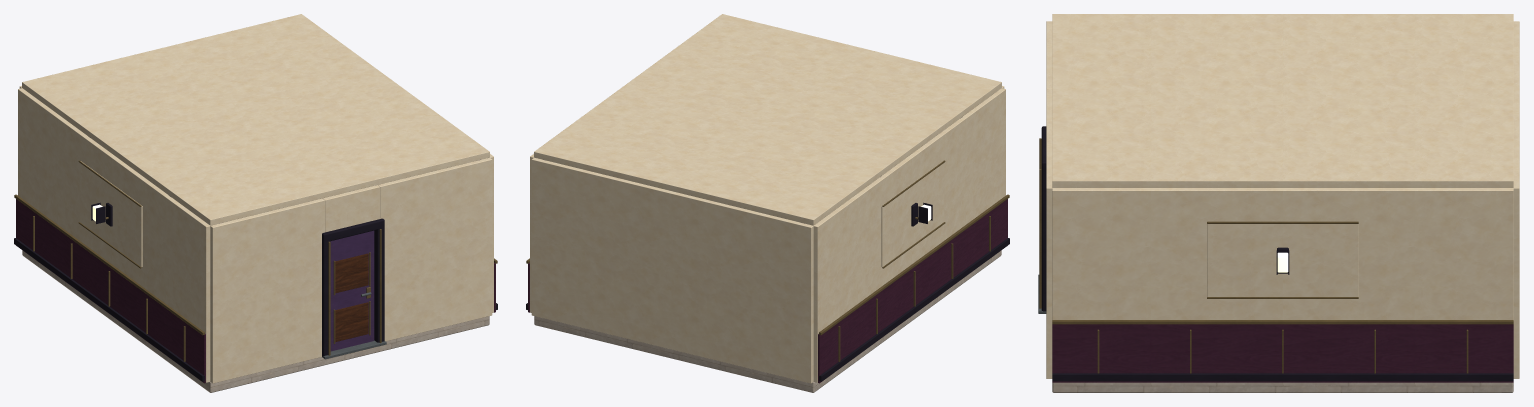
The model's file is explore3d__guest_room.glb.
The picture shows the model from 3 angles, left to right: view 1: azimuth 30°, elevation 25°; view 2: azimuth 150°, elevation 25°; view 3: azimuth 270°, elevation 25°; orthographic projection. The views are drawn at different scales.
Parts seen in each view (by area): view 1: ceiling_surface.008, front_wall.026, left_wall.024, front_wall.024, left_wainscot.016, floor.009, left_upper_inset.016, guest_room_leaf, front_wall.025, left_skirt.016, guest_room_jamb.001, guest_room_recessed_panel.001 (+4 smaller); view 2: ceiling_surface.008, back_wall.018, left_wall.024, left_wainscot.016, floor.009, left_upper_inset.016, left_skirt.016, left_rail.016; view 3: ceiling_surface.008, right_wall.024, right_wainscot.016, right_upper_inset.016, floor.009, right_skirt.016, back_wall.018, right_rail.016, front_wall.024, guest_room_jamb.001, front_wall.026, right_inset_edge.033 (+1 smaller).
Part boxes in pixels (box(x1,y1,x2,y2)): ceiling_surface.008: box(22, 14, 489, 225); front_wall.026: box(210, 198, 324, 383); left_wall.024: box(18, 88, 210, 382); front_wall.024: box(378, 157, 492, 341); left_wainscot.016: box(16, 199, 205, 383); floor.009: box(22, 250, 489, 392); left_upper_inset.016: box(79, 161, 142, 267); guest_room_leaf: box(330, 230, 374, 351); front_wall.025: box(322, 185, 379, 232); left_skirt.016: box(14, 238, 204, 381); guest_room_jamb.001: box(374, 224, 384, 342); guest_room_recessed_panel.001: box(335, 253, 368, 293); ceiling_surface.008: box(534, 14, 1001, 225); back_wall.018: box(531, 157, 813, 383); left_wall.024: box(813, 88, 1005, 382); left_wainscot.016: box(818, 199, 1007, 383); floor.009: box(534, 250, 1001, 392); left_upper_inset.016: box(881, 161, 944, 267); left_skirt.016: box(819, 238, 1009, 381); left_rail.016: box(819, 194, 1009, 335); ceiling_surface.008: box(1052, 14, 1513, 187); right_wall.024: box(1052, 188, 1513, 319); right_wainscot.016: box(1052, 324, 1513, 382); right_upper_inset.016: box(1207, 224, 1358, 296); floor.009: box(1052, 382, 1513, 392); right_skirt.016: box(1052, 373, 1513, 381); back_wall.018: box(1513, 21, 1519, 378); right_rail.016: box(1052, 320, 1513, 324); front_wall.024: box(1046, 121, 1052, 378); guest_room_jamb.001: box(1041, 167, 1046, 311); front_wall.026: box(1046, 21, 1052, 88); right_inset_edge.033: box(1207, 221, 1358, 223).
Bounding box in the file's own units: 6.96 × 3.56 × 7.3.
Materials: 17 (15 with a texture image).
